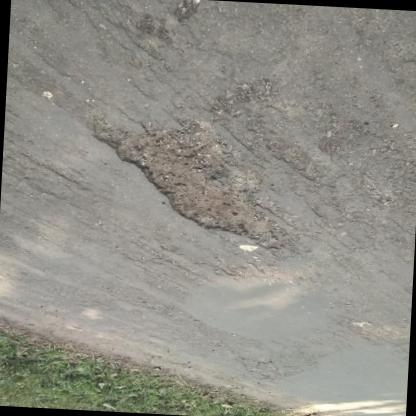pothole: (81, 108, 298, 253)
